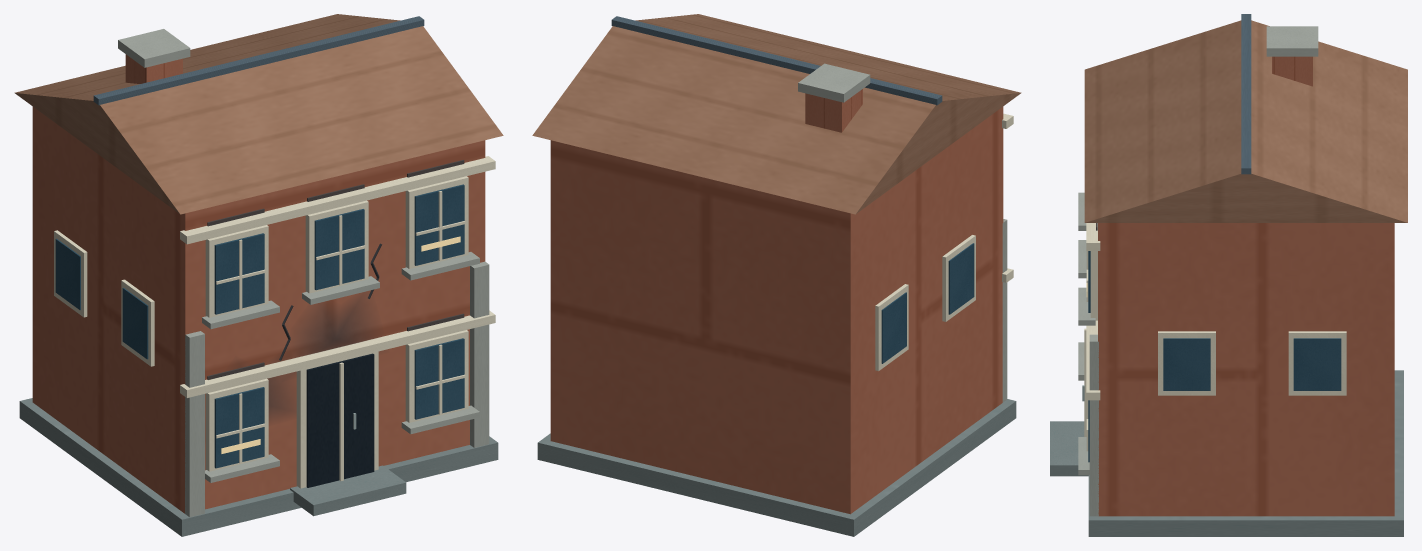
The model's file is row-house-scorched-lod.glb.
3 renders of one model, left to right at view 1: azimuth 30°, elevation 25°; view 2: azimuth 150°, elevation 25°; view 3: azimuth 270°, elevation 25°, orthographic. The views are drawn at different scales.
Visible parts, largest first — view 1: row-house-scorched-lod; view 2: row-house-scorched-lod; view 3: row-house-scorched-lod.
Part boxes in pixels (x1,y1,x2,y2): row-house-scorched-lod: (14,14,503,536); row-house-scorched-lod: (532,14,1021,536); row-house-scorched-lod: (1050,14,1407,536).
Bounding box in the file's own units: 5.54 × 6.46 × 5.42.
Materials: 5 (5 with a texture image).
